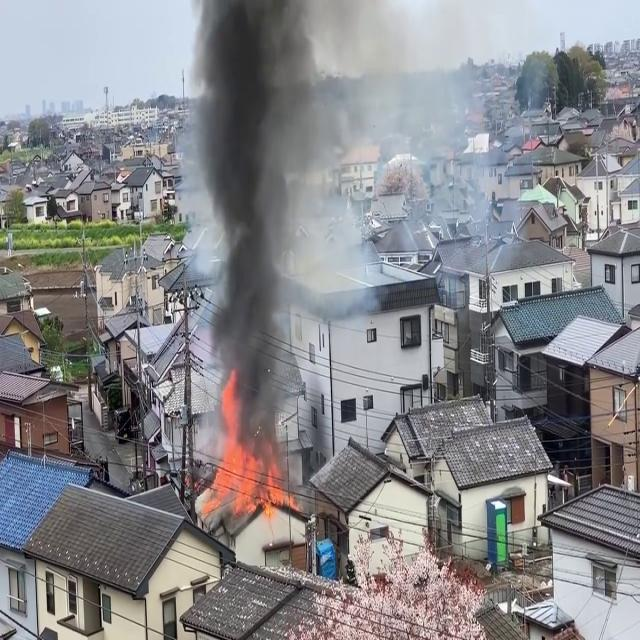Fire: (202, 394, 296, 522)
Smoke: (189, 0, 322, 455)
